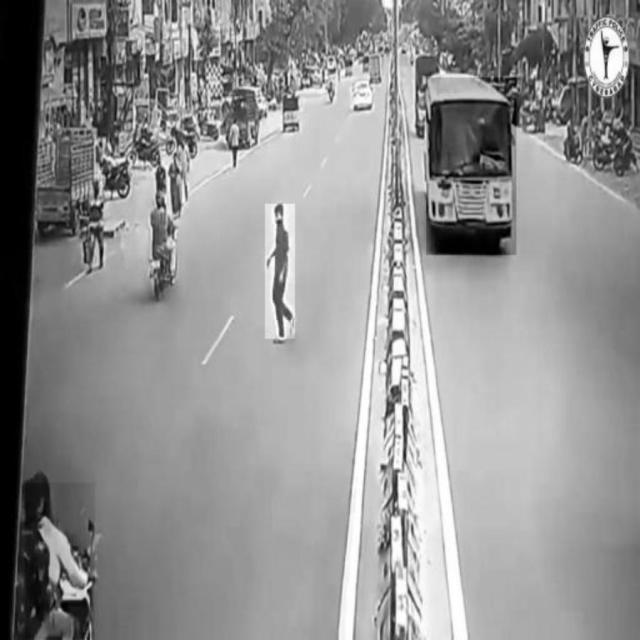person: (265, 204, 295, 338)
vehicle: (427, 78, 517, 255), (24, 483, 95, 639), (137, 195, 187, 296), (350, 77, 375, 113)
